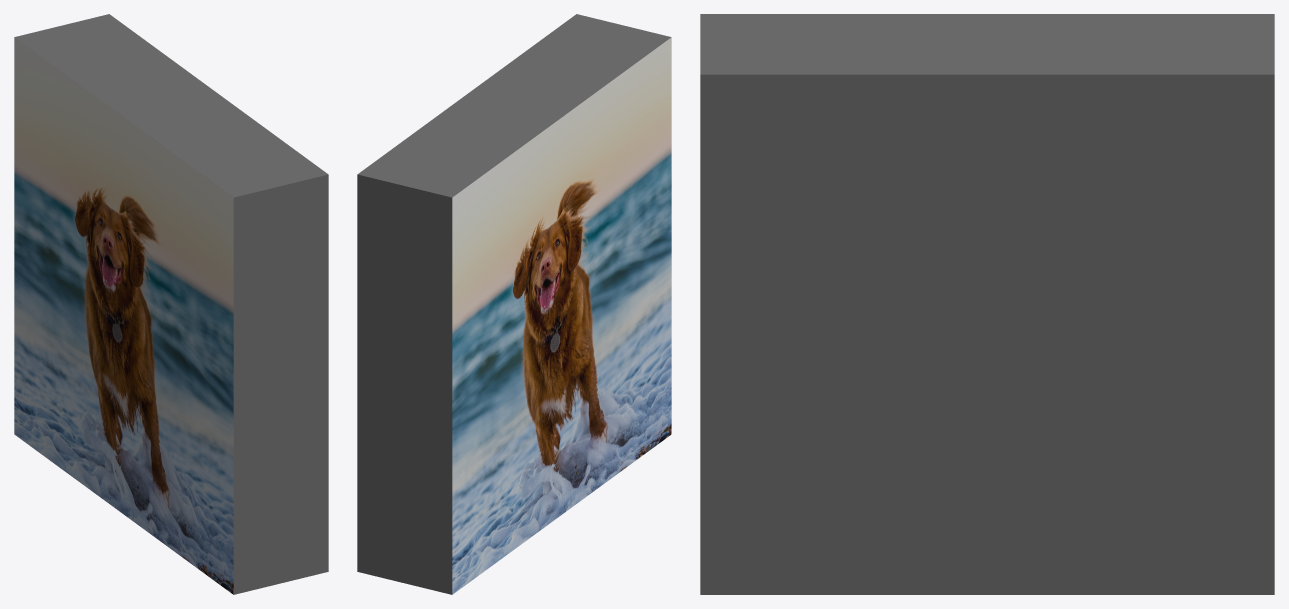
The model's file is 16CubesPuzzle.fbx.
3 renders of one model, left to right at view 1: azimuth 30°, elevation 25°; view 2: azimuth 150°, elevation 25°; view 3: azimuth 270°, elevation 25°, orthographic. The views are drawn at different scales.
Visible parts, largest first — view 1: piece2.013, piece2.010, piece2.009, piece2.011, piece3.005, piece4.005, piece2.012, piece1.002, piece3.004, piece3.003, piece4.004, piece2.007 (+4 smaller); view 2: piece3.005, piece3.004, piece3.003, piece1.002, piece2.013, piece2.012, piece4.005, piece2.009, piece2.010, piece2.011, piece2.006, piece2.008 (+4 smaller); view 3: piece4.005, piece3.005, piece2.012, piece2.013, piece4.003, piece4.004, piece3.003, piece3.004, piece2.010, piece2.011, piece2.005, piece2.006 (+4 smaller).
Part boxes in pixels (x1,y1,x2,y2): piece2.013: (179,134,328,296); piece2.010: (179,356,328,495); piece2.009: (179,456,328,594); piece2.011: (179,257,328,396); piece3.005: (14,14,163,176); piece4.005: (69,54,218,216); piece2.012: (124,94,273,256); piece1.002: (14,335,69,474); piece3.004: (14,236,69,374); piece3.003: (14,136,69,275); piece4.004: (69,276,123,414); piece2.007: (124,415,178,554); piece3.005: (357,134,506,296); piece3.004: (357,356,506,495); piece3.003: (357,257,506,396); piece1.002: (357,456,506,594); piece2.013: (522,14,671,176); piece2.012: (467,54,616,216); piece4.005: (412,94,561,256); piece2.009: (616,335,671,474); piece2.010: (616,236,671,374); piece2.011: (616,136,671,275); piece2.006: (562,276,616,414); piece2.008: (507,415,561,554); piece4.005: (987,14,1130,204); piece3.005: (1131,14,1274,204); piece2.012: (844,14,987,204); piece2.013: (700,14,843,204); piece4.003: (987,204,1130,334); piece4.004: (987,334,1130,464); piece3.003: (1131,204,1274,334); piece3.004: (1131,334,1274,464); piece2.010: (700,334,843,464); piece2.011: (700,204,843,334); piece2.005: (844,204,987,334); piece2.006: (844,334,987,464).
Bounding box in the file's own units: 800 × 3200 × 3200.
2 materials, 1 textured.
